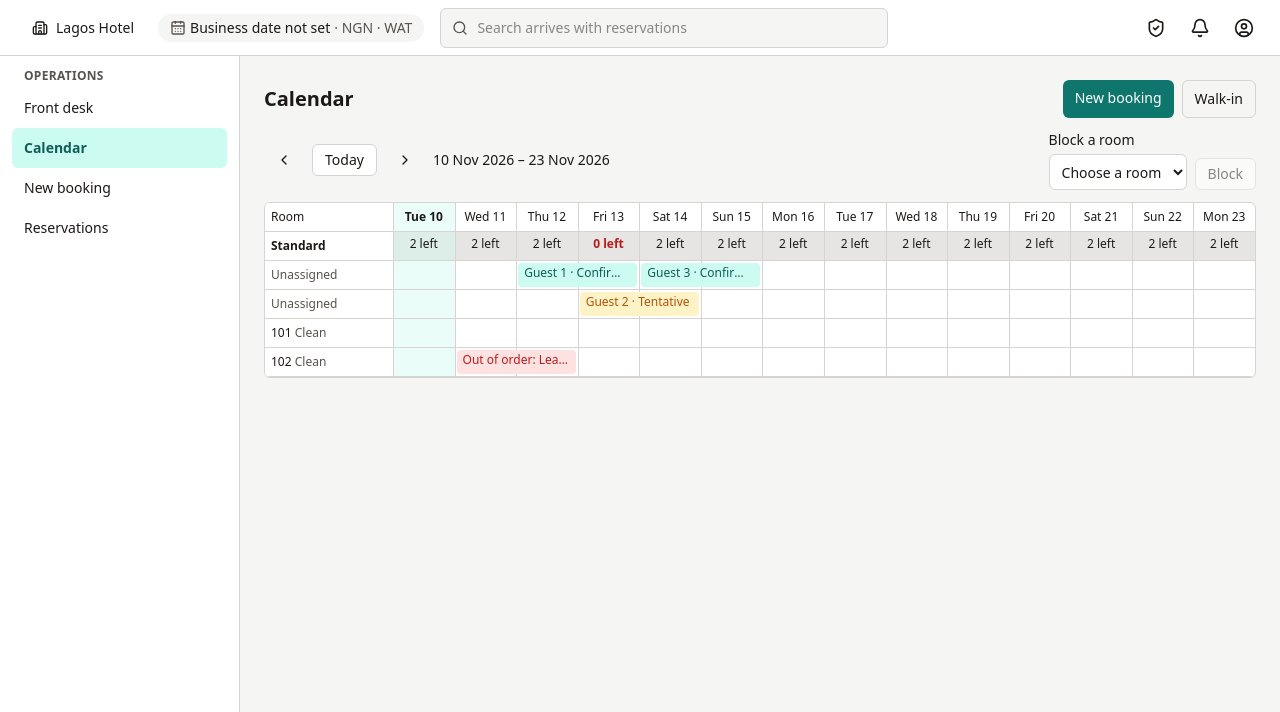
Scenario: Calendar (S07) › users with room.block block a room from the calendar
Expected: the table named "Reservation calendar" is shown, [264,202,1256,378]
Step 1. Select "101" in the dropdown labelled "Block a room" → (1118, 172), box [1049,154,1187,190]
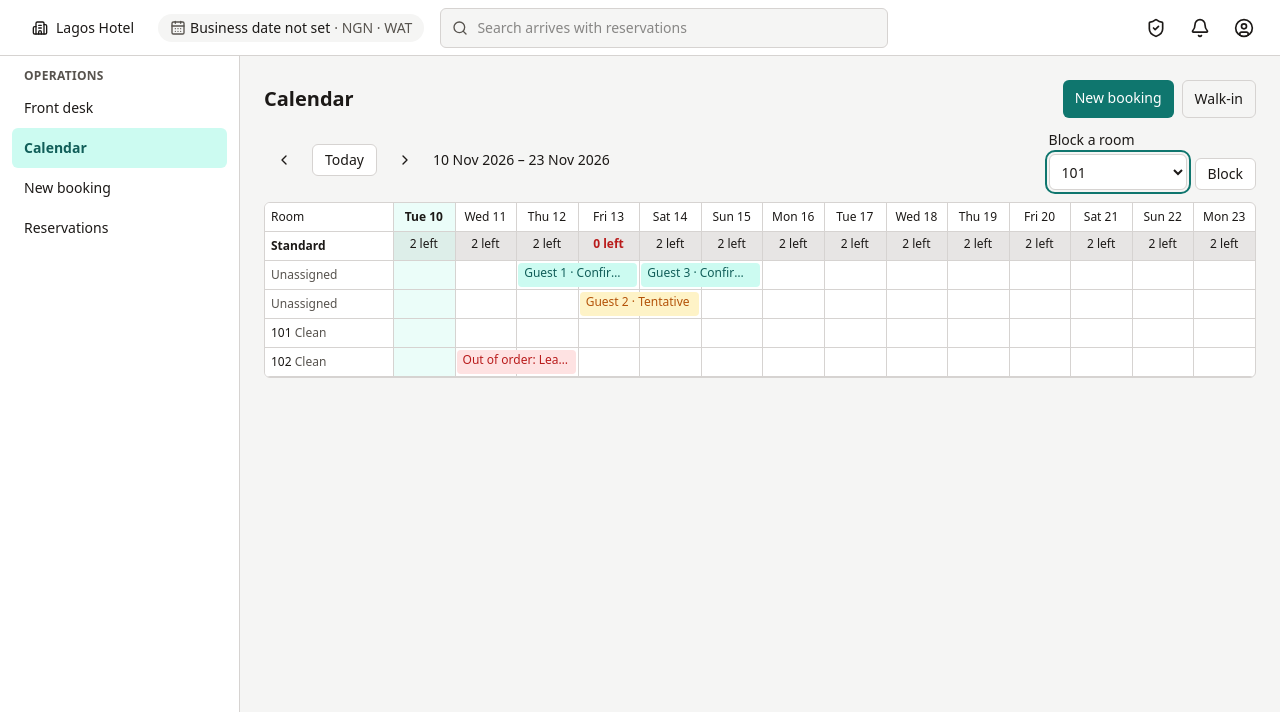
Step 2. Click the button "Block" → (1225, 174), box [1195,158,1256,190]
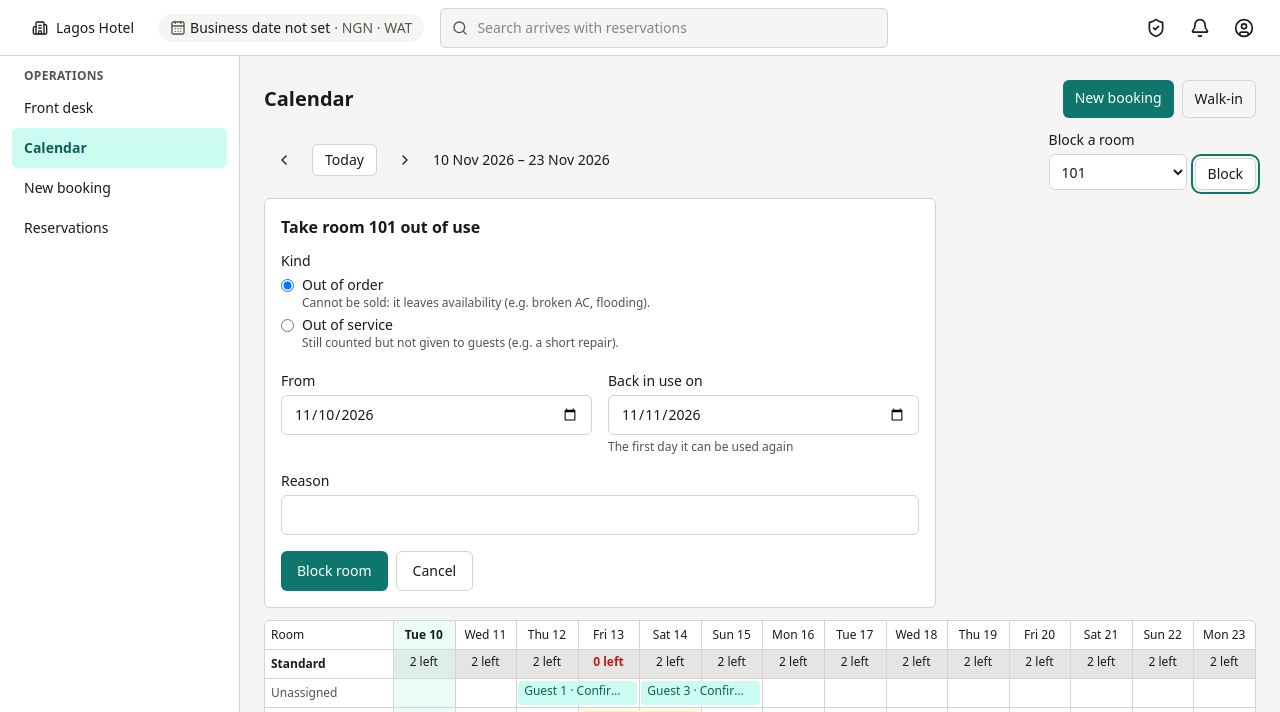
Expected: the form "101" is shown, [264,198,936,608]
